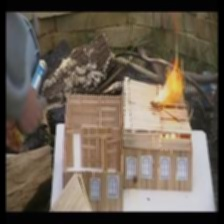fire: (157, 57, 188, 101)
